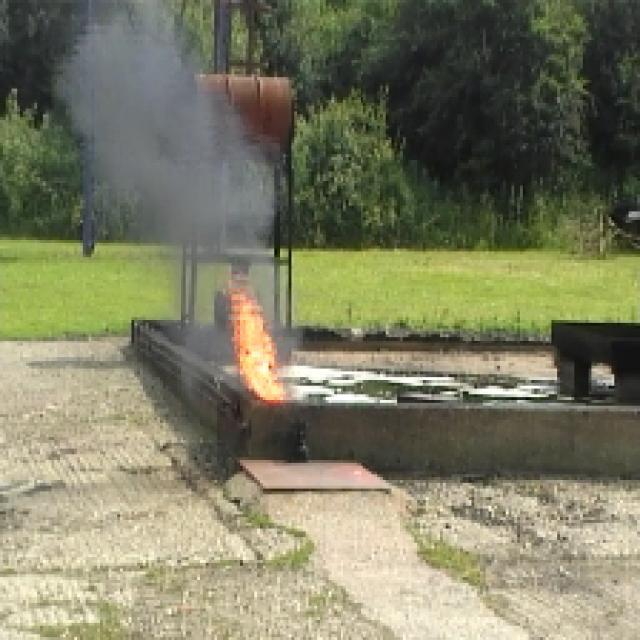Fire: (224, 302, 288, 399)
Smoke: (95, 69, 176, 205), (182, 142, 258, 240)
